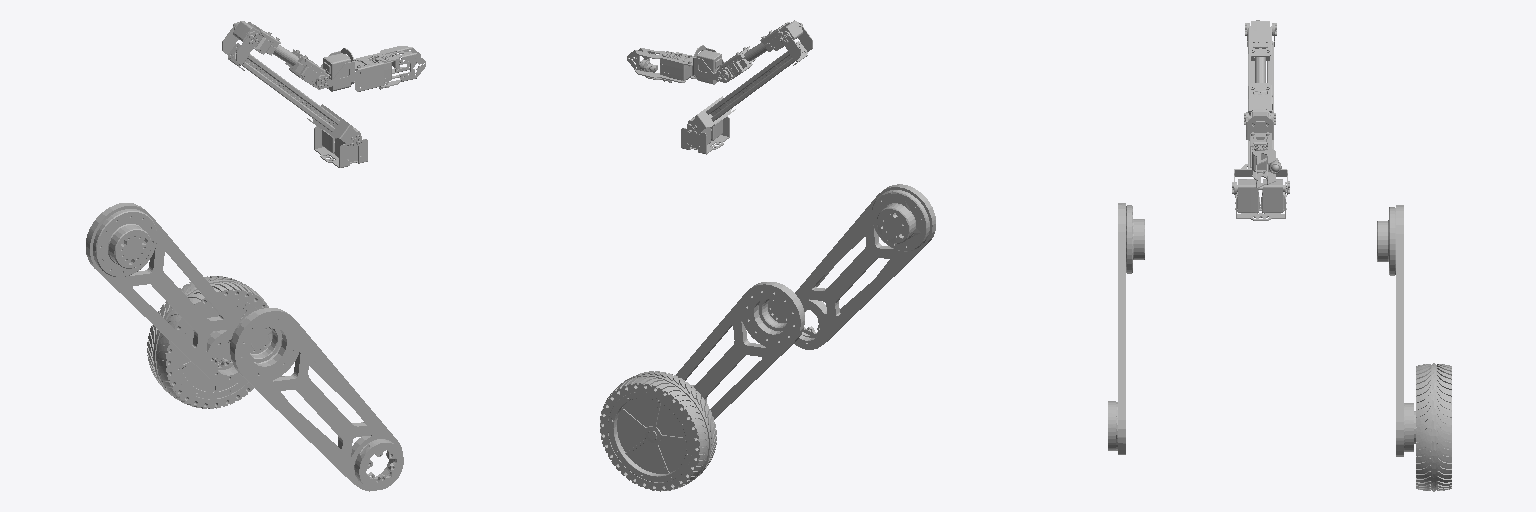
The robot description file, URDF, robot "wheeled_arm":
<?xml version="1.0" encoding="utf-8"?>
<!-- This URDF was automatically created by SolidWorks to URDF Exporter! Originally created by Stephen Brawner (brawner@gmail.com) 
     Commit Version: 1.6.0-4-g7f85cfe  Build Version: 1.6.7995.38578
     For more information, please see http://wiki.ros.org/sw_urdf_exporter -->
<robot
  name="wheeled_arm">
  <link
    name="base_link">
    <inertial>
      <origin
        xyz="0.00122 3.9497E-05 0.0098153"
        rpy="0 0 0" />
      <mass
        value="7.7499" />
      <inertia
        ixx="0.067352"
        ixy="9.92E-05"
        ixz="0.0002445"
        iyy="0.1191"
        iyz="-0.0018379"
        izz="0.11212" />
    </inertial>
    <visual>
      <origin
        xyz="0 0 0"
        rpy="0 0 0" />
      <geometry>
        <mesh
          filename="package://wheeled_arm/meshes/base_link.STL" />
      </geometry>
      <material
        name="">
        <color
          rgba="0.75294 0.75294 0.75294 1" />
      </material>
    </visual>
    <collision>
      <origin
        xyz="0 0 0"
        rpy="0 0 0" />
      <geometry>
        <mesh
          filename="package://wheeled_arm/meshes/base_link.STL" />
      </geometry>
    </collision>
  </link>
  <link
    name="left_hip_link">
    <inertial>
      <origin
        xyz="-0.10176 0.030151 0.027303"
        rpy="0 0 0" />
      <mass
        value="2.2541" />
      <inertia
        ixx="0.023124"
        ixy="-0.0003697"
        ixz="-0.001413"
        iyy="0.020231"
        iyz="-0.0051775"
        izz="0.0041375" />
    </inertial>
    <visual>
      <origin
        xyz="0 0 0"
        rpy="0 0 0" />
      <geometry>
        <mesh
          filename="package://wheeled_arm/meshes/left_hip_link.STL" />
      </geometry>
      <material
        name="">
        <color
          rgba="0.75294 0.75294 0.75294 1" />
      </material>
    </visual>
    <collision>
      <origin
        xyz="0 0 0"
        rpy="0 0 0" />
      <geometry>
        <mesh
          filename="package://wheeled_arm/meshes/left_hip_link.STL" />
      </geometry>
    </collision>
  </link>
  <joint
    name="HipL"
    type="continuous">
    <origin
      xyz="0.0082629 0.14034 0.059008"
      rpy="-1.5708 0 0" />
    <parent
      link="base_link" />
    <child
      link="left_hip_link" />
    <axis
      xyz="0 0 -1" />
    <limit
      lower="-3.14"
      upper="3.14"
      effort="150"
      velocity="50" />
  </joint>
  <link
    name="left_knee_link">
    <inertial>
      <origin
        xyz="0.064051 0.079816 0.030408"
        rpy="0 0 0" />
      <mass
        value="0.8433" />
      <inertia
        ixx="0.011584"
        ixy="0.0004631"
        ixz="-0.0003716"
        iyy="0.0047851"
        iyz="0.0049762"
        izz="0.0069929" />
    </inertial>
    <visual>
      <origin
        xyz="0 0 0"
        rpy="0 0 0" />
      <geometry>
        <mesh
          filename="package://wheeled_arm/meshes/left_knee_link.STL" />
      </geometry>
      <material
        name="">
        <color
          rgba="0.75294 0.75294 0.75294 1" />
      </material>
    </visual>
    <collision>
      <origin
        xyz="0 0 0"
        rpy="0 0 0" />
      <geometry>
        <mesh
          filename="package://wheeled_arm/meshes/left_knee_link.STL" />
      </geometry>
    </collision>
  </link>
  <joint
    name="KneeL"
    type="continuous">
    <origin
      xyz="-0.2302 0.067889 0.0285"
      rpy="0 0 0" />
    <parent
      link="left_hip_link" />
    <child
      link="left_knee_link" />
    <axis
      xyz="0 0 -1" />
    <limit
      lower="-3.14"
      upper="3.14"
      effort="150"
      velocity="50" />
  </joint>
  <link
    name="left_wheel_link">
    <inertial>
      <origin
        xyz="-4.8422E-05 -3.1902E-05 0.02755"
        rpy="0 0 0" />
      <mass
        value="1.86" />
      <inertia
        ixx="0.0080683"
        ixy="3E-07"
        ixz="-2E-07"
        iyy="0.004371"
        iyz="-9E-07"
        izz="0.0043701" />
    </inertial>
    <visual>
      <origin
        xyz="0 0 0"
        rpy="0 0 0" />
      <geometry>
        <mesh
          filename="package://wheeled_arm/meshes/left_wheel_link.STL" />
      </geometry>
      <material
        name="">
        <color
          rgba="0.75294 0.75294 0.75294 1" />
      </material>
    </visual>
    <collision>
      <origin
        xyz="0 0 0"
        rpy="0 0 0" />
      <geometry>
        <mesh
          filename="package://wheeled_arm/meshes/left_wheel_link.STL" />
      </geometry>
    </collision>
  </link>
  <joint
    name="HubL"
    type="continuous">
    <origin
      xyz="0.17527 0.21842 0.054"
      rpy="0 0 0" />
    <parent
      link="left_knee_link" />
    <child
      link="left_wheel_link" />
    <axis
      xyz="0 0 -1" />
    <limit
      effort="17"
      velocity="115" />
  </joint>
  <link
    name="right_hip_link">
    <inertial>
      <origin
        xyz="-0.10213 -0.028901 0.027303"
        rpy="0 0 0" />
      <mass
        value="2.2541" />
      <inertia
        ixx="0.023124"
        ixy="0.0004427"
        ixz="0.0013918"
        iyy="0.020312"
        iyz="-0.0050495"
        izz="0.0040566" />
    </inertial>
    <visual>
      <origin
        xyz="0 0 0"
        rpy="0 0 0" />
      <geometry>
        <mesh
          filename="package://wheeled_arm/meshes/right_hip_link.STL" />
      </geometry>
      <material
        name="">
        <color
          rgba="0.75294 0.75294 0.75294 1" />
      </material>
    </visual>
    <collision>
      <origin
        xyz="0 0 0"
        rpy="0 0 0" />
      <geometry>
        <mesh
          filename="package://wheeled_arm/meshes/right_hip_link.STL" />
      </geometry>
    </collision>
  </link>
  <joint
    name="HipR"
    type="continuous">
    <origin
      xyz="0.0082629 -0.14066 0.059008"
      rpy="1.5708 0 0" />
    <parent
      link="base_link" />
    <child
      link="right_hip_link" />
    <axis
      xyz="0 0 -1" />
    <limit
      lower="-3.14"
      upper="3.14"
      effort="150"
      velocity="50" />
  </joint>
  <link
    name="right_knee_link">
    <inertial>
      <origin
        xyz="0.063695 -0.080101 0.030408"
        rpy="0 0 0" />
      <mass
        value="0.8433" />
      <inertia
        ixx="0.011584"
        ixy="-0.0004647"
        ixz="0.0003695"
        iyy="0.0047408"
        iyz="0.0049662"
        izz="0.0070371" />
    </inertial>
    <visual>
      <origin
        xyz="0 0 0"
        rpy="0 0 0" />
      <geometry>
        <mesh
          filename="package://wheeled_arm/meshes/right_knee_link.STL" />
      </geometry>
      <material
        name="">
        <color
          rgba="0.75294 0.75294 0.75294 1" />
      </material>
    </visual>
    <collision>
      <origin
        xyz="0 0 0"
        rpy="0 0 0" />
      <geometry>
        <mesh
          filename="package://wheeled_arm/meshes/right_knee_link.STL" />
      </geometry>
    </collision>
  </link>
  <joint
    name="KneeR"
    type="continuous">
    <origin
      xyz="-0.23085 -0.065642 0.0285"
      rpy="0 0 0" />
    <parent
      link="right_hip_link" />
    <child
      link="right_knee_link" />
    <axis
      xyz="0 0 -1" />
    <limit
      lower="-3.14"
      upper="3.14"
      effort="150"
      velocity="50" />
  </joint>
  <link
    name="right_wheel_link">
    <inertial>
      <origin
        xyz="-2.0417E-05 5.4273E-05 0.02755"
        rpy="0 0 0" />
      <mass
        value="1.86" />
      <inertia
        ixx="0.0080683"
        ixy="-2E-07"
        ixz="3E-07"
        iyy="0.0043705"
        iyz="-1E-06"
        izz="0.0043705" />
    </inertial>
    <visual>
      <origin
        xyz="0 0 0"
        rpy="0 0 0" />
      <geometry>
        <mesh
          filename="package://wheeled_arm/meshes/right_wheel_link.STL" />
      </geometry>
      <material
        name="">
        <color
          rgba="0.75294 0.75294 0.75294 1" />
      </material>
    </visual>
    <collision>
      <origin
        xyz="0 0 0"
        rpy="0 0 0" />
      <geometry>
        <mesh
          filename="package://wheeled_arm/meshes/right_wheel_link.STL" />
      </geometry>
    </collision>
  </link>
  <joint
    name="HubR"
    type="continuous">
    <origin
      xyz="0.1743 -0.21919 0.054"
      rpy="0 0 0" />
    <parent
      link="right_knee_link" />
    <child
      link="right_wheel_link" />
    <axis
      xyz="0 0 1" />
    <limit
      effort="17"
      velocity="115" />
  </joint>
  <link
    name="armr_link">
    <inertial>
      <origin
        xyz="2.2896E-10 -0.00043585 0.030444"
        rpy="0 0 0" />
      <mass
        value="0.091576" />
      <inertia
        ixx="2.22E-05"
        ixy="1E-07"
        ixz="2E-07"
        iyy="4.7E-05"
        iyz="0"
        izz="5.83E-05" />
    </inertial>
    <visual>
      <origin
        xyz="0 0 0"
        rpy="0 0 0" />
      <geometry>
        <mesh
          filename="package://wheeled_arm/meshes/armr_link.STL" />
      </geometry>
      <material
        name="">
        <color
          rgba="0.75294 0.75294 0.75294 1" />
      </material>
    </visual>
    <collision>
      <origin
        xyz="0 0 0"
        rpy="0 0 0" />
      <geometry>
        <mesh
          filename="package://wheeled_arm/meshes/armr_link.STL" />
      </geometry>
    </collision>
  </link>
  <joint
    name="ArmR"
    type="continuous">
    <origin
      xyz="0.015253 -0.00016358 0.14131"
      rpy="0 0 0" />
    <parent
      link="base_link" />
    <child
      link="armr_link" />
    <axis
      xyz="0 0 -1" />
    <limit
      lower="-6.28"
      upper="6.28"
      effort="4"
      velocity="10" />
  </joint>
  <link
    name="arm1_link">
    <inertial>
      <origin
        xyz="-0.088278 -0.083575 0.00067116"
        rpy="0 0 0" />
      <mass
        value="0.061072" />
      <inertia
        ixx="0.0003187"
        ixy="-3E-07"
        ixz="2E-07"
        iyy="0.0001781"
        iyz="0.0001551"
        izz="0.0001744" />
    </inertial>
    <visual>
      <origin
        xyz="0 0 0"
        rpy="0 0 0" />
      <geometry>
        <mesh
          filename="package://wheeled_arm/meshes/arm1_link.STL" />
      </geometry>
      <material
        name="">
        <color
          rgba="0.75294 0.75294 0.75294 1" />
      </material>
    </visual>
    <collision>
      <origin
        xyz="0 0 0"
        rpy="0 0 0" />
      <geometry>
        <mesh
          filename="package://wheeled_arm/meshes/arm1_link.STL" />
      </geometry>
    </collision>
  </link>
  <joint
    name="Arm1"
    type="continuous">
    <origin
      xyz="0 0 0.045759"
      rpy="-1.5708 0 0.0087266" />
    <parent
      link="armr_link" />
    <child
      link="arm1_link" />
    <axis
      xyz="-0.30095 0 -0.95364" />
    <limit
      lower="-3.14"
      upper="3.14"
      effort="4"
      velocity="10" />
  </joint>
  <link
    name="arm2_Link">
    <inertial>
      <origin
        xyz="0.072209 -0.00098456 -0.0029552"
        rpy="0 0 0" />
      <mass
        value="0.10131" />
      <inertia
        ixx="0.0003312"
        ixy="-1E-06"
        ixz="1.3E-06"
        iyy="0.0002024"
        iyz="0.0001577"
        izz="0.0001455" />
    </inertial>
    <visual>
      <origin
        xyz="0 0 0"
        rpy="0 0 0" />
      <geometry>
        <mesh
          filename="package://wheeled_arm/meshes/arm2_Link.STL" />
      </geometry>
      <material
        name="">
        <color
          rgba="0.75294 0.75294 0.75294 1" />
      </material>
    </visual>
    <collision>
      <origin
        xyz="0 0 0"
        rpy="0 0 0" />
      <geometry>
        <mesh
          filename="package://wheeled_arm/meshes/arm2_Link.STL" />
      </geometry>
    </collision>
  </link>
  <joint
    name="Arm2"
    type="continuous">
    <origin
      xyz="-0.1527 -0.18475 0.0024793"
      rpy="0.0055966 -0.0072667 0.69615" />
    <parent
      link="arm1_link" />
    <child
      link="arm2_Link" />
    <axis
      xyz="-0.013962 0 -0.9999" />
    <limit
      lower="-3.14"
      upper="3.14"
      effort="4"
      velocity="10" />
  </joint>
  <link
    name="arm3_Link">
    <inertial>
      <origin
        xyz="0.026569 -0.02282 0.0019783"
        rpy="0 0 0" />
      <mass
        value="0.047304" />
      <inertia
        ixx="1.32E-05"
        ixy="1E-07"
        ixz="-1E-07"
        iyy="9.4E-06"
        iyz="-1E-07"
        izz="1.1E-05" />
    </inertial>
    <visual>
      <origin
        xyz="0 0 0"
        rpy="0 0 0" />
      <geometry>
        <mesh
          filename="package://wheeled_arm/meshes/arm3_Link.STL" />
      </geometry>
      <material
        name="">
        <color
          rgba="0.75294 0.75294 0.75294 1" />
      </material>
    </visual>
    <collision>
      <origin
        xyz="0 0 0"
        rpy="0 0 0" />
      <geometry>
        <mesh
          filename="package://wheeled_arm/meshes/arm3_Link.STL" />
      </geometry>
    </collision>
  </link>
  <joint
    name="Arm3"
    type="continuous">
    <origin
      xyz="0.14442 0 -0.0060058"
      rpy="0 0.022689 0" />
    <parent
      link="arm2_Link" />
    <child
      link="arm3_Link" />
    <axis
      xyz="-0.0087265 0 0.99996" />
    <limit
      lower="-3.14"
      upper="3.14"
      effort="4"
      velocity="10" />
  </joint>
  <link
    name="arm4_Link">
    <inertial>
      <origin
        xyz="0.00084151 -0.0017925 0.042382"
        rpy="0 0 0" />
      <mass
        value="0.055559" />
      <inertia
        ixx="2.91E-05"
        ixy="-1E-07"
        ixz="-5.3E-06"
        iyy="2.91E-05"
        iyz="8E-07"
        izz="1.02E-05" />
    </inertial>
    <visual>
      <origin
        xyz="0 0 0"
        rpy="0 0 0" />
      <geometry>
        <mesh
          filename="package://wheeled_arm/meshes/arm4_Link.STL" />
      </geometry>
      <material
        name="">
        <color
          rgba="0.75294 0.75294 0.75294 1" />
      </material>
    </visual>
    <collision>
      <origin
        xyz="0 0 0"
        rpy="0 0 0" />
      <geometry>
        <mesh
          filename="package://wheeled_arm/meshes/arm4_Link.STL" />
      </geometry>
    </collision>
  </link>
  <joint
    name="Arm4"
    type="continuous">
    <origin
      xyz="0.05047 -0.024198 0.0023627"
      rpy="-1.5641 0.0055378 -2.2583" />
    <parent
      link="arm3_Link" />
    <child
      link="arm4_Link" />
    <axis
      xyz="-0.0087265 0 -0.99996" />
    <limit
      lower="-3.14"
      upper="3.14"
      effort="4"
      velocity="10" />
  </joint>
  <link
    name="claw_Link">
    <inertial>
      <origin
        xyz="0.023352 0.00077653 0.0015622"
        rpy="0 0 0" />
      <mass
        value="0.0045211" />
      <inertia
        ixx="3.3E-06"
        ixy="0"
        ixz="-2E-07"
        iyy="2.1E-06"
        iyz="0"
        izz="2.15E-06" />
    </inertial>
    <visual>
      <origin
        xyz="0 0 0"
        rpy="0 0 0" />
      <geometry>
        <mesh
          filename="package://wheeled_arm/meshes/claw_Link.STL" />
      </geometry>
      <material
        name="">
        <color
          rgba="0.75294 0.75294 0.75294 1" />
      </material>
    </visual>
    <collision>
      <origin
        xyz="0 0 0"
        rpy="0 0 0" />
      <geometry>
        <mesh
          filename="package://wheeled_arm/meshes/claw_Link.STL" />
      </geometry>
    </collision>
  </link>
  <joint
    name="Claw"
    type="revolute">
    <origin
      xyz="-0.0011819 0 0.053263"
      rpy="0 -1.5708 0" />
    <parent
      link="arm4_Link" />
    <child
      link="claw_Link" />
    <axis
      xyz="-0.0087265 0 0.99996" />
    <limit
      lower="-1.57"
      upper="1.57"
      effort="4"
      velocity="10" />
  </joint>
</robot>

--- What the picture shows (computed from the rendered views, not written in the file) ---
Views: 3 orthographic renders of the robot side by side, from view 1: azimuth 30°, elevation 25°; view 2: azimuth 150°, elevation 25°; view 3: azimuth 270°, elevation 25°.
Model wheeled_arm with 13 links and 12 joints (1 revolute, 11 continuous), rooted at base_link, posed all joints at 0.
Links seen in each view (by area): view 1: right_knee_link, left_knee_link, left_wheel_link, arm1_link, arm2_Link, arm4_Link, armr_link, arm3_Link, claw_Link; view 2: left_wheel_link, right_knee_link, left_knee_link, arm1_link, arm4_Link, arm2_Link, armr_link, arm3_Link; view 3: left_wheel_link, right_knee_link, left_knee_link, arm2_Link, armr_link, arm1_link, arm4_Link, arm3_Link.
Boxes of the visible links, x1,y1,x2,y2 form: right_knee_link: [230, 308, 403, 491]; left_knee_link: [86, 203, 244, 385]; left_wheel_link: [147, 276, 268, 408]; arm1_link: [222, 22, 361, 147]; arm2_Link: [233, 21, 328, 89]; arm4_Link: [351, 46, 420, 91]; armr_link: [314, 126, 367, 167]; arm3_Link: [316, 48, 354, 91]; claw_Link: [375, 51, 425, 89]; left_wheel_link: [600, 371, 716, 491]; right_knee_link: [794, 184, 935, 349]; left_knee_link: [676, 282, 804, 419]; arm1_link: [687, 22, 812, 135]; arm4_Link: [627, 50, 696, 82]; arm2_Link: [717, 20, 802, 82]; armr_link: [681, 116, 729, 154]; arm3_Link: [693, 45, 728, 84]; left_wheel_link: [1414, 363, 1451, 491]; right_knee_link: [1108, 203, 1144, 454]; left_knee_link: [1377, 205, 1413, 456]; arm2_Link: [1248, 20, 1273, 121]; armr_link: [1235, 179, 1286, 220]; arm1_link: [1232, 23, 1289, 194]; arm4_Link: [1250, 132, 1281, 184]; arm3_Link: [1244, 112, 1275, 140].
Size in the robot's own frame: 0.4253 by 0.5016 by 0.7067 metres.
Meshes: 13 distinct files referenced, 9 mesh visuals loaded (9 binary STL); not drawn: 4 (reference not matched to a file when rendering).
